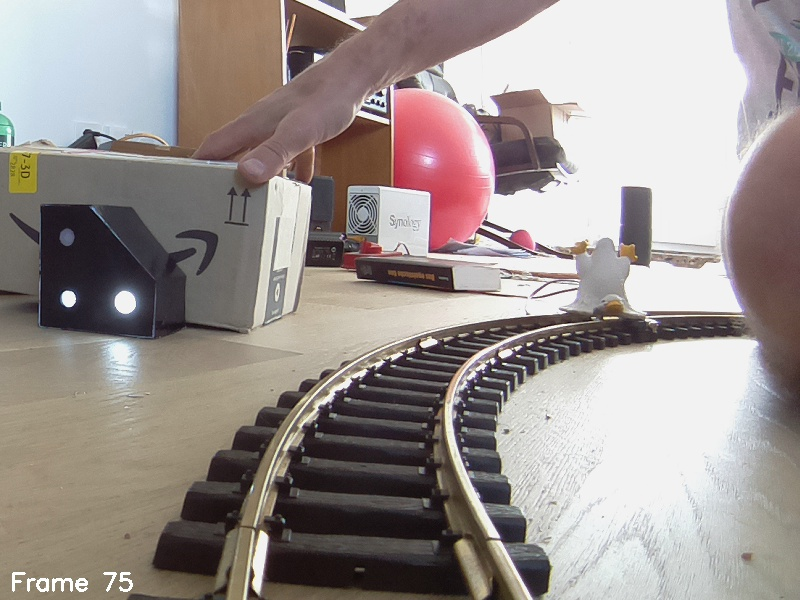Halt: (38, 203, 185, 344)
